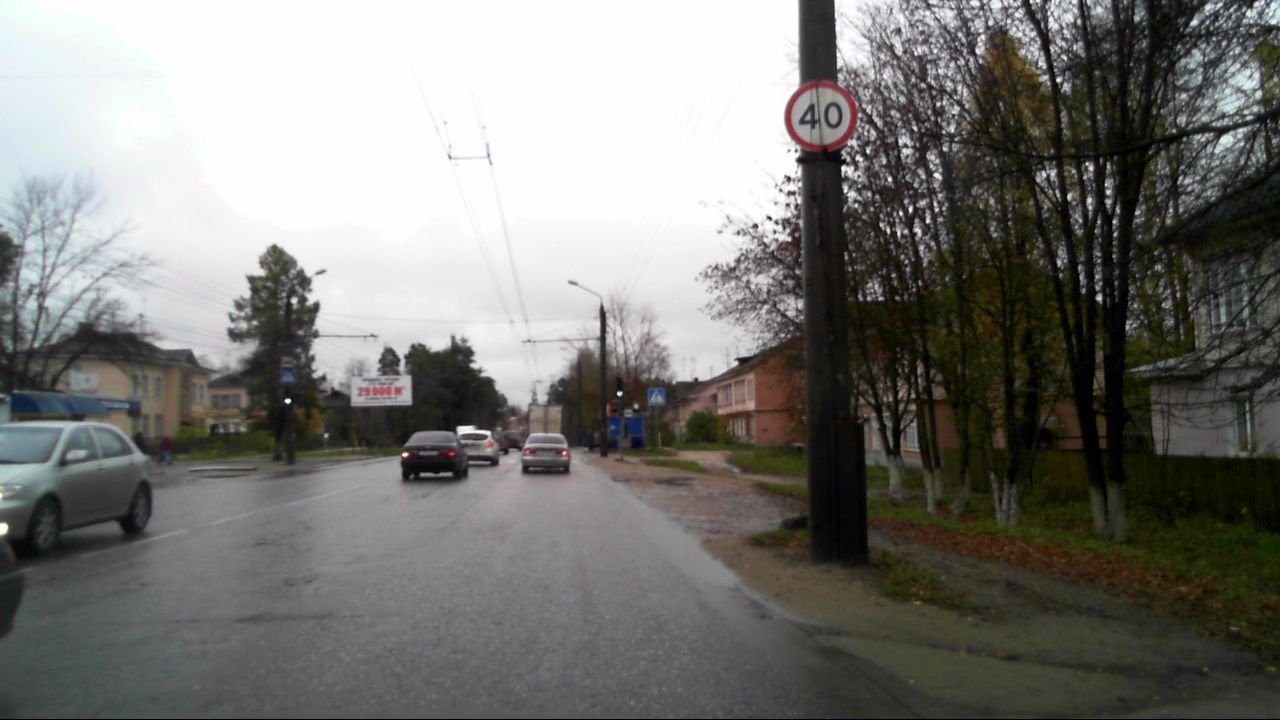speed_warning_40: (783, 81, 862, 157)
